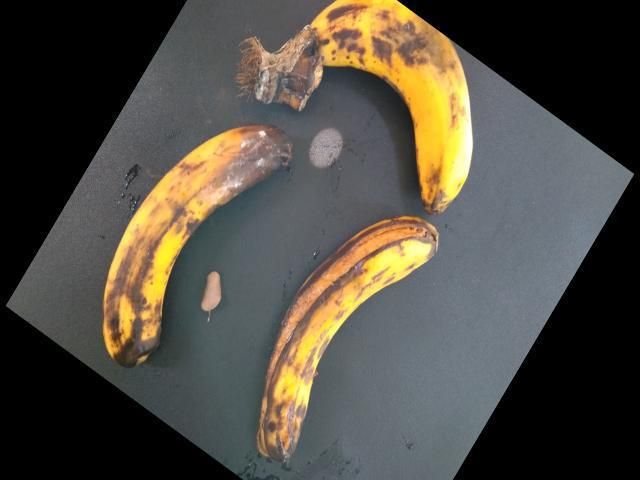overripe: (311, 0, 493, 205)
rotten: (62, 130, 296, 379), (233, 222, 433, 458)
